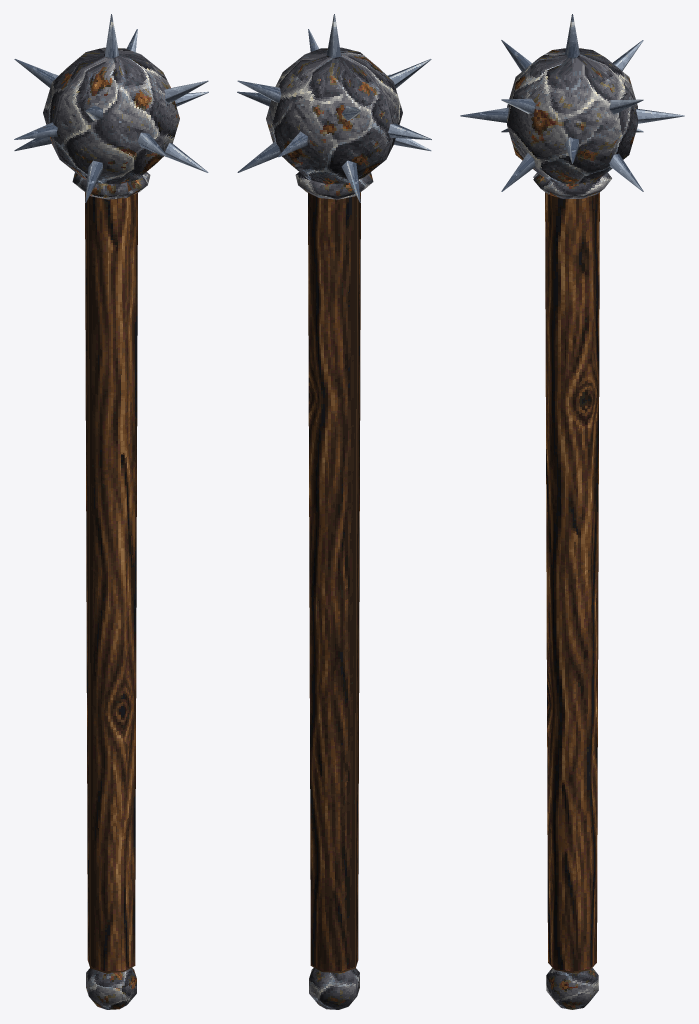
The model's file is morning_star.glb.
3 renders of one model, left to right at view 1: azimuth 30°, elevation 25°; view 2: azimuth 150°, elevation 25°; view 3: azimuth 270°, elevation 25°, orthographic.
Parts seen in each view (by area): view 1: morning_star; view 2: morning_star; view 3: morning_star.
Part boxes in pixels (x1=…): morning_star: x1=14, y1=14, x2=208, y2=1009; morning_star: x1=237, y1=14, x2=431, y2=1009; morning_star: x1=460, y1=14, x2=684, y2=1009.
Bounding box in the file's own units: 0.1465 × 0.7156 × 0.1465.
Materials: 1 (1 with a texture image).
